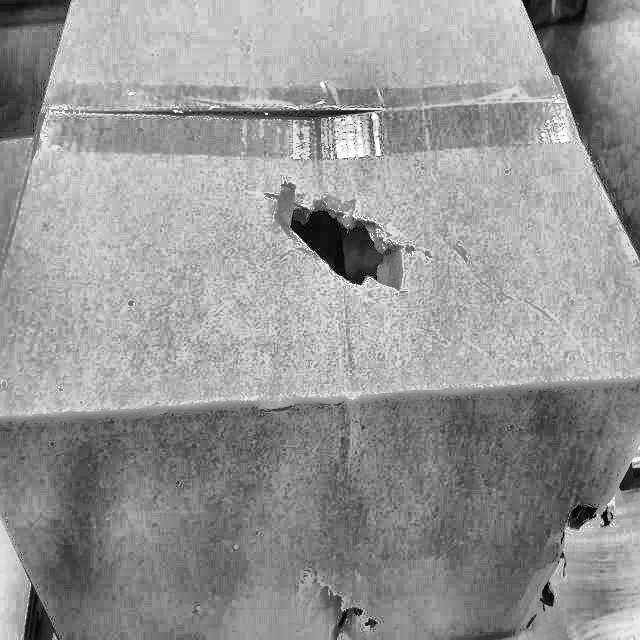box: (0, 0, 639, 639)
hole: (490, 460, 622, 640), (280, 189, 415, 295)
